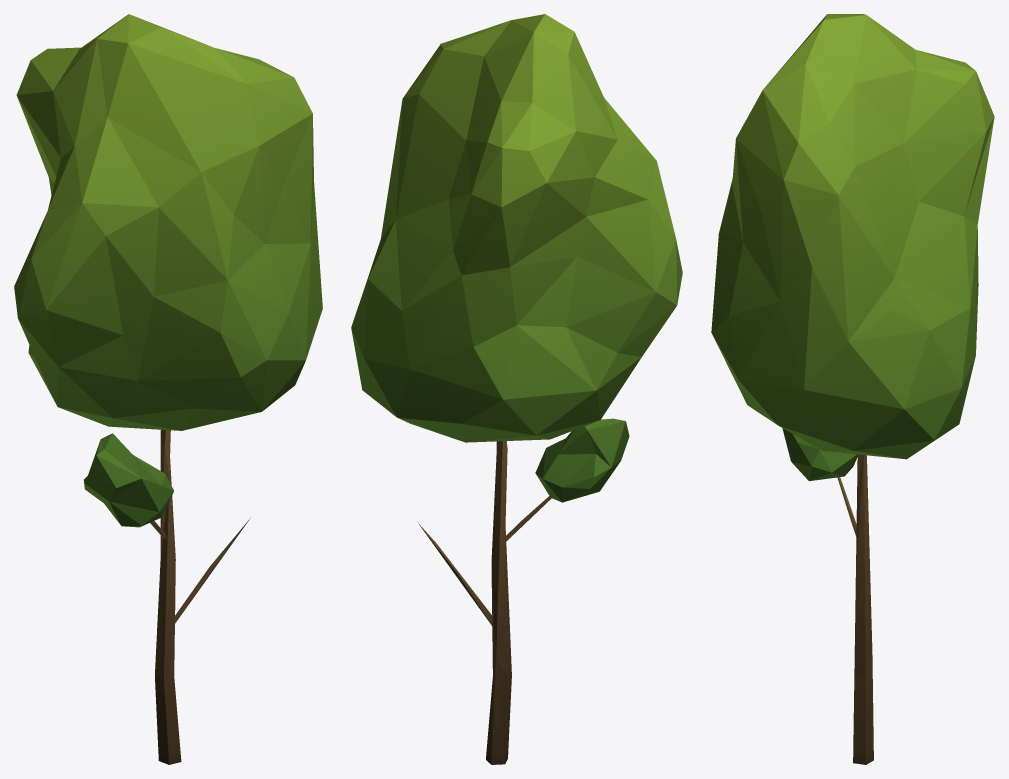
File: Tree_06.fbx
3 views of the same model, side by side, from view 1: azimuth 30°, elevation 25°; view 2: azimuth 150°, elevation 25°; view 3: azimuth 270°, elevation 25° (orthographic). The views are drawn at different scales.
Parts seen in each view (by area): view 1: Tree_06; view 2: Tree_06; view 3: Tree_06.
Part boxes in pixels (left/top/right/bottom): Tree_06: left=14, top=14, right=322, bottom=764; Tree_06: left=351, top=14, right=682, bottom=764; Tree_06: left=711, top=14, right=994, bottom=764.
Bounding box in the file's own units: 1.9 × 4.64 × 1.64.
